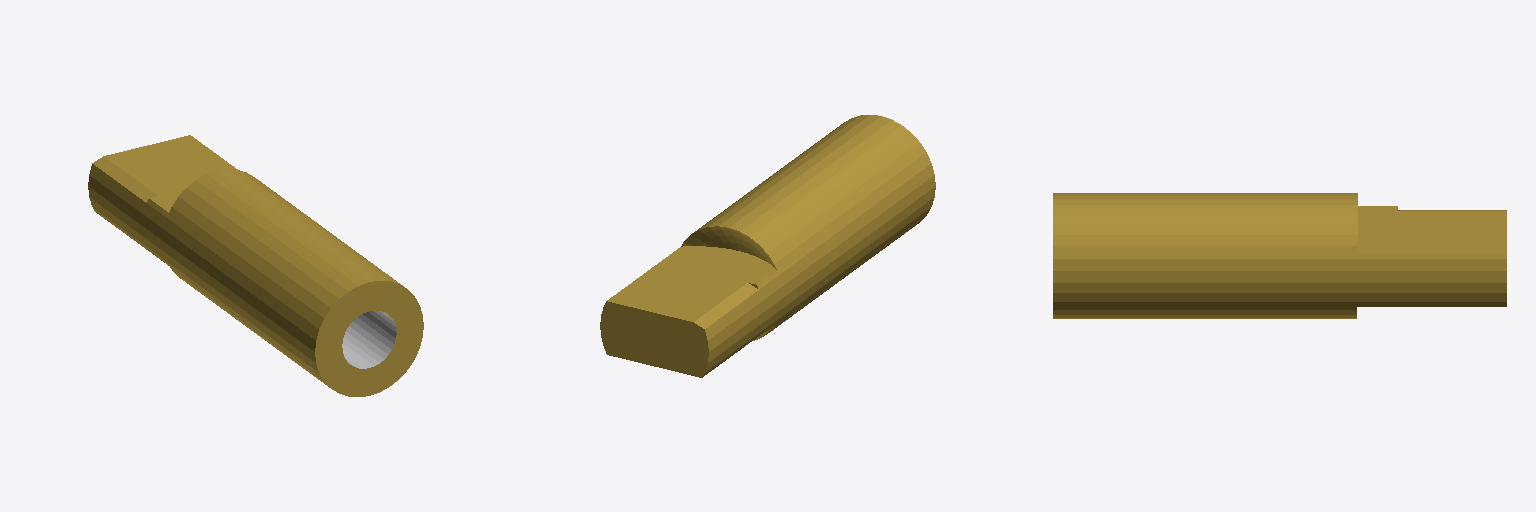
The model's file is arm.obj.
The picture shows the model from 3 angles: view 1: azimuth 30°, elevation 25°; view 2: azimuth 150°, elevation 25°; view 3: azimuth 270°, elevation 25°; orthographic projection.
Visible parts, largest first — view 1: Cylinder.003_Mesh.013; view 2: Cylinder.003_Mesh.013; view 3: Cylinder.003_Mesh.013.
Part boxes in pixels (bbox=[...]): Cylinder.003_Mesh.013: bbox=[88, 135, 423, 396]; Cylinder.003_Mesh.013: bbox=[600, 115, 935, 377]; Cylinder.003_Mesh.013: bbox=[1053, 193, 1506, 318].
Size of the model in its own units: 1.17 by 1.17 by 4.24.